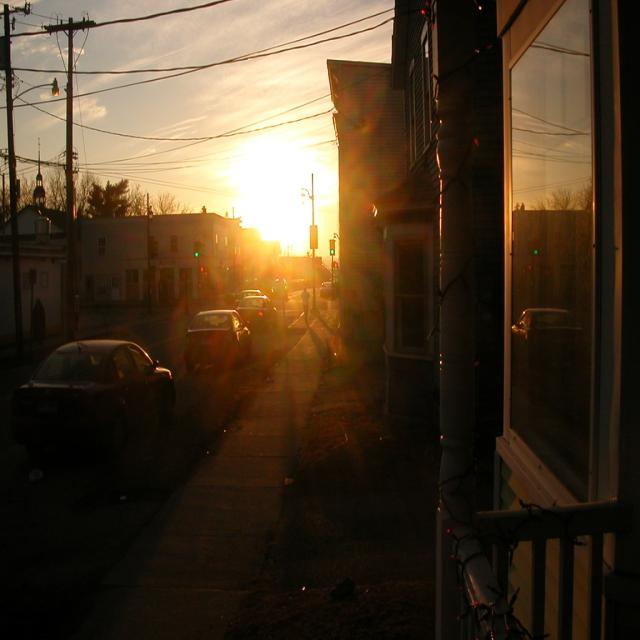car: (18, 341, 180, 432), (174, 306, 246, 372), (237, 295, 274, 341), (318, 279, 333, 299)
